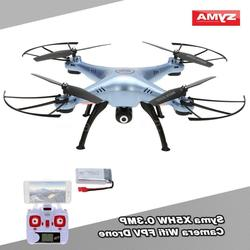drone: (1, 39, 250, 154)
